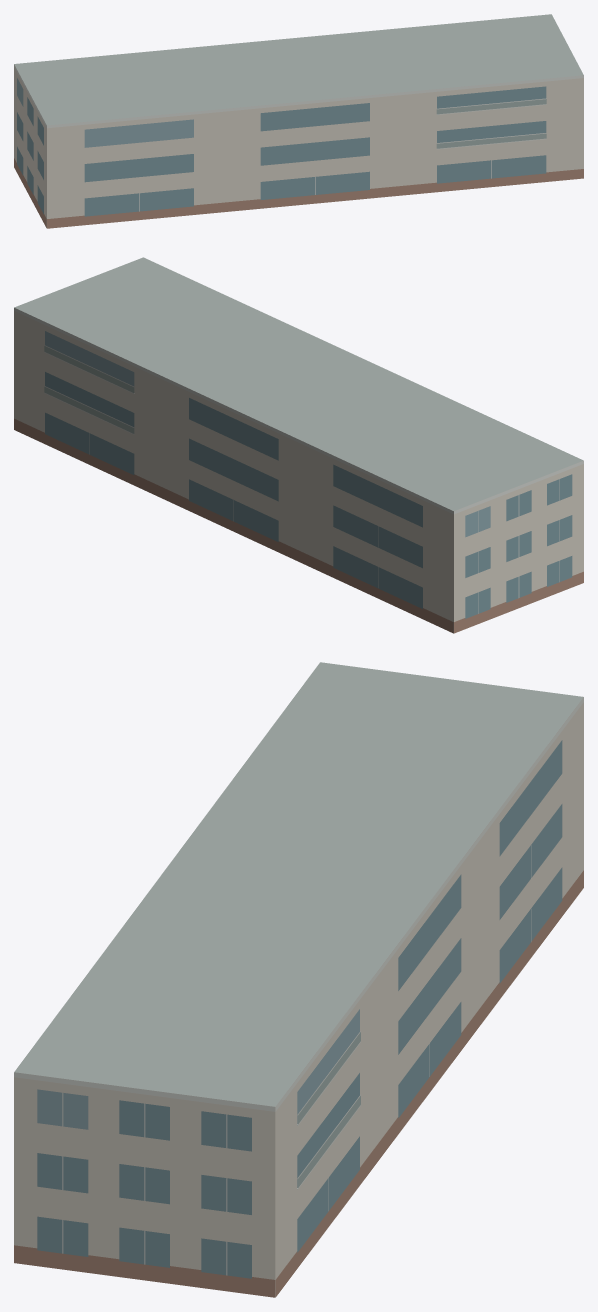
The model's file is survey-upis-32998483.glb.
3 renders of one model, top to bottom at view 1: azimuth 30°, elevation 25°; view 2: azimuth 150°, elevation 25°; view 3: azimuth 270°, elevation 25°, orthographic. The views are drawn at different scales.
Parts seen in each view (by area): view 1: survey-upis-32998483.tmp; view 2: survey-upis-32998483.tmp; view 3: survey-upis-32998483.tmp.
Part boxes in pixels (x1,y1,x2,y2): survey-upis-32998483.tmp: (14, 14, 583, 228); survey-upis-32998483.tmp: (14, 257, 583, 633); survey-upis-32998483.tmp: (14, 662, 583, 1297).
Bounding box in the file's own units: 45.74 × 9.15 × 24.77.
